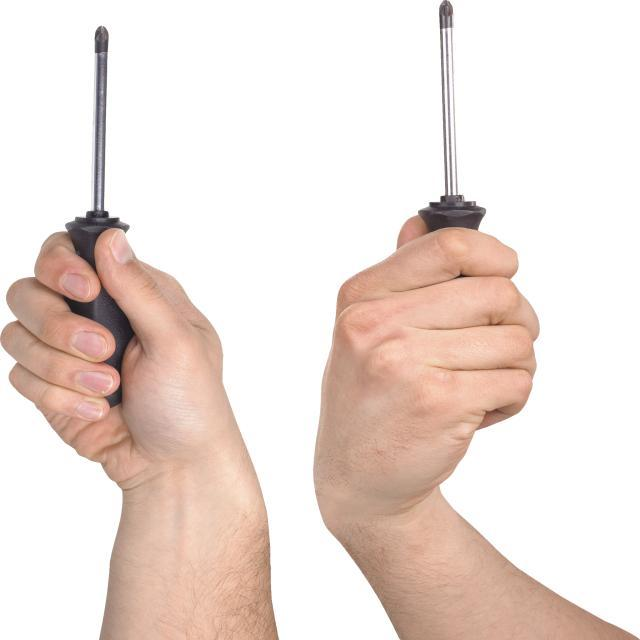screwdriver: (57, 14, 136, 414), (416, 1, 486, 242)
